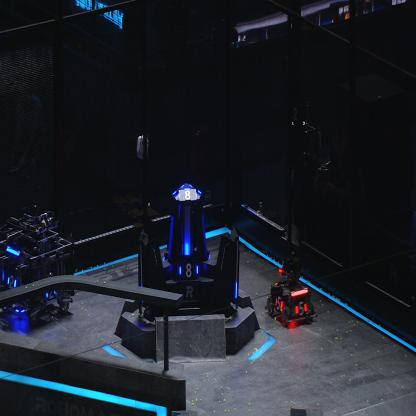car: (0, 210, 76, 325), (265, 256, 316, 328)
